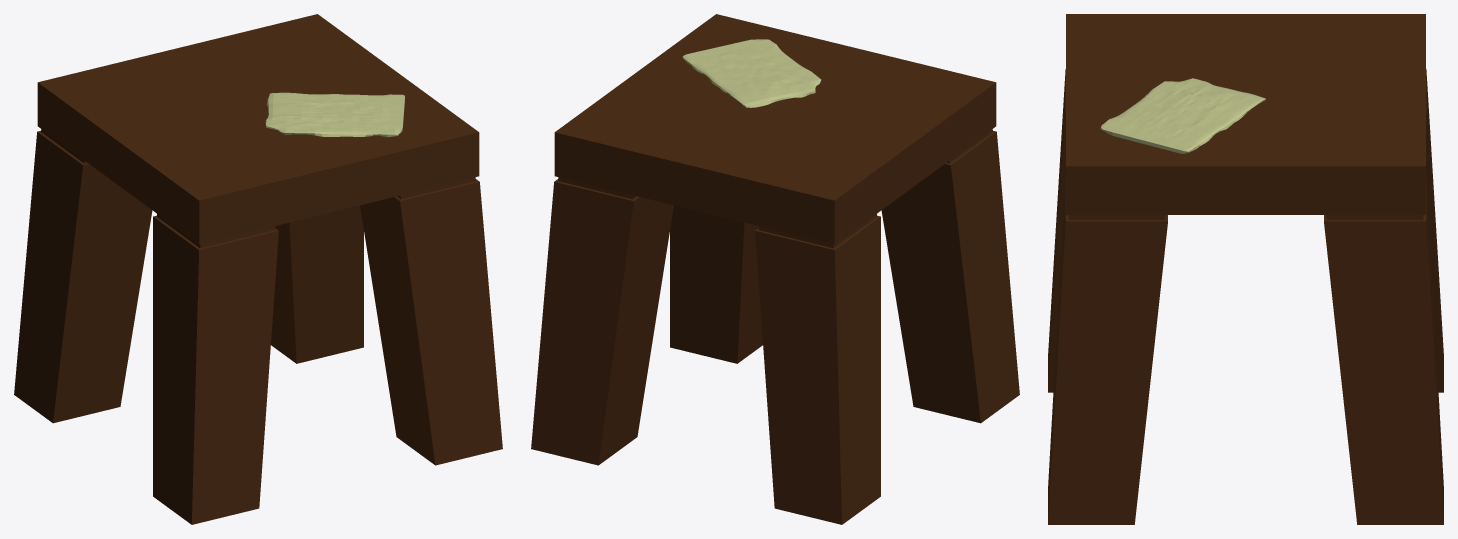
The model's file is tablewithpaper.fbx.
3 renders of one model, left to right at view 1: azimuth 30°, elevation 25°; view 2: azimuth 150°, elevation 25°; view 3: azimuth 270°, elevation 25°, orthographic. The views are drawn at different scales.
Parts seen in each view (by area): view 1: Cube, Plane; view 2: Cube, Plane; view 3: Cube, Plane.
Boxes of the visible parts, box(x1,y1,x2,y2) form: Cube: box(14, 14, 502, 524); Plane: box(265, 92, 404, 137); Cube: box(531, 14, 1019, 524); Plane: box(682, 39, 821, 107); Cube: box(1048, 14, 1443, 524); Plane: box(1100, 78, 1265, 153).
Size of the model in its own units: 2015 by 1978 by 1995.
